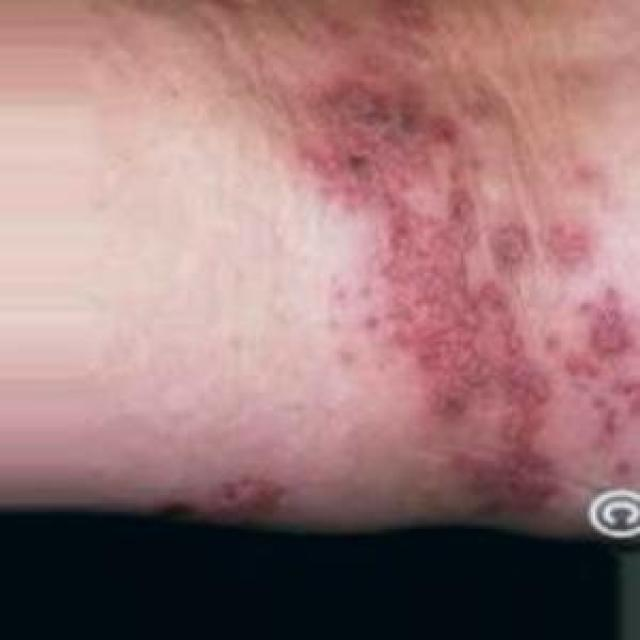Shingles: (298, 81, 640, 515), (211, 472, 284, 526)
